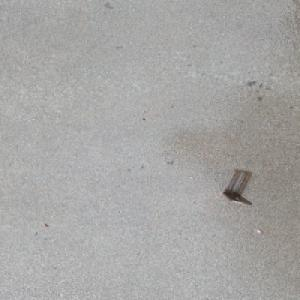MetalPart: (221, 169, 253, 205)
